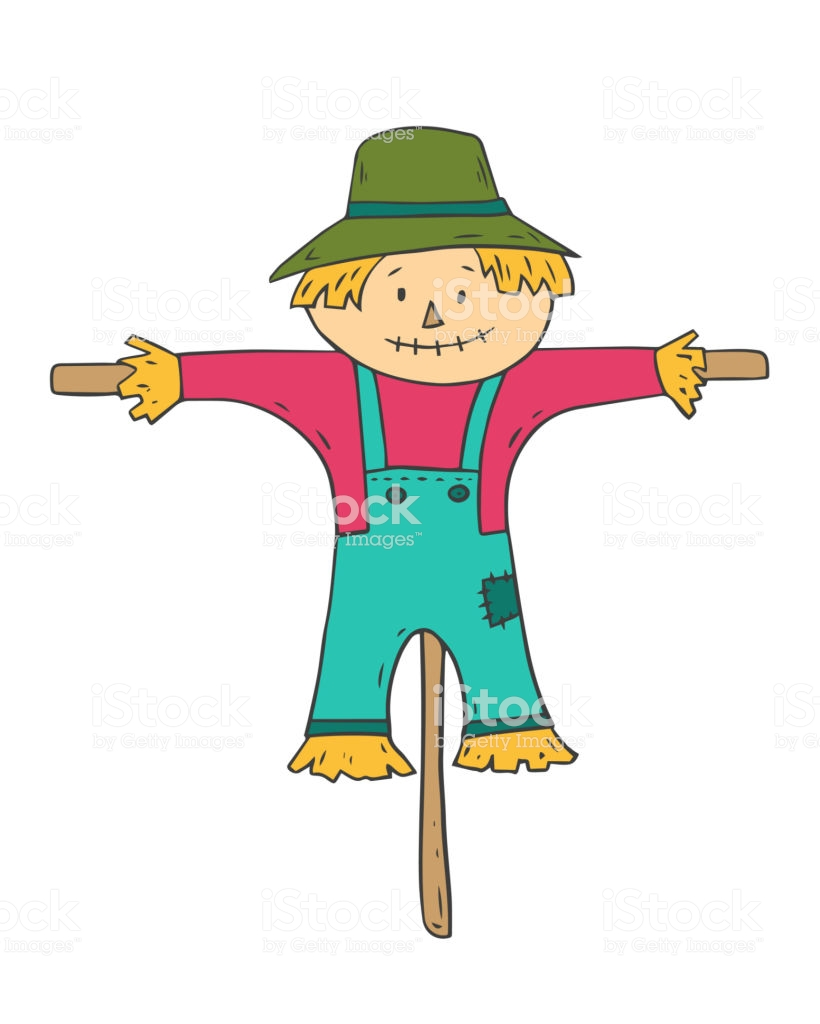person-like: (111, 117, 711, 789)
